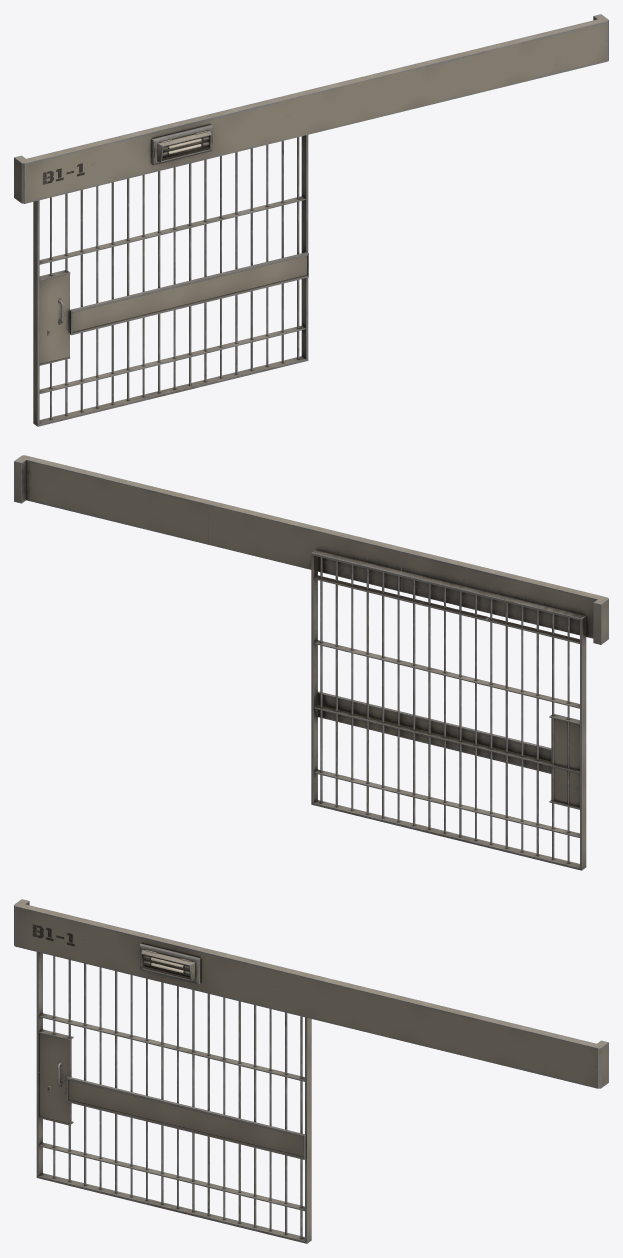
The model's file is prison_gate.glb.
3 views of the same model, one above another, from view 1: azimuth 30°, elevation 25°; view 2: azimuth 150°, elevation 25°; view 3: azimuth 330°, elevation 25° (orthographic).
Parts seen in each view (by area): view 1: gate; view 2: gate; view 3: gate.
Boxes of the visible parts, left/top/right/bottom form: gate: left=14, top=14, right=608, bottom=426; gate: left=14, top=455, right=608, bottom=870; gate: left=14, top=899, right=608, bottom=1243.
Size of the model in its own units: 3.04 by 1.34 by 0.1327.
1 material, 1 textured.
